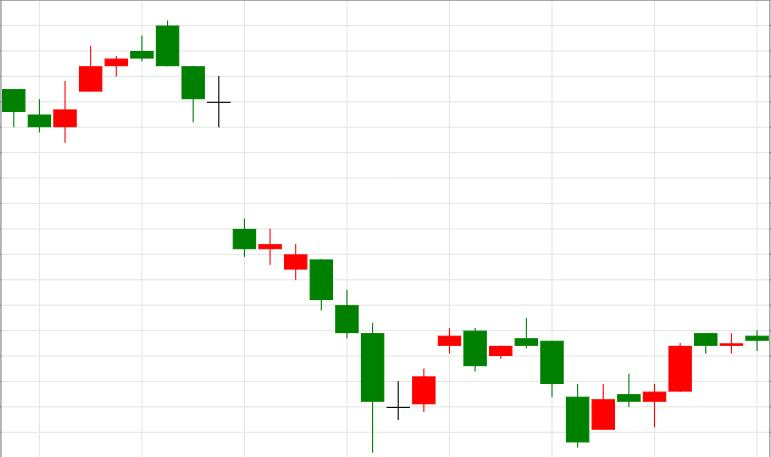morning_star_rise: (156, 21, 436, 453)
